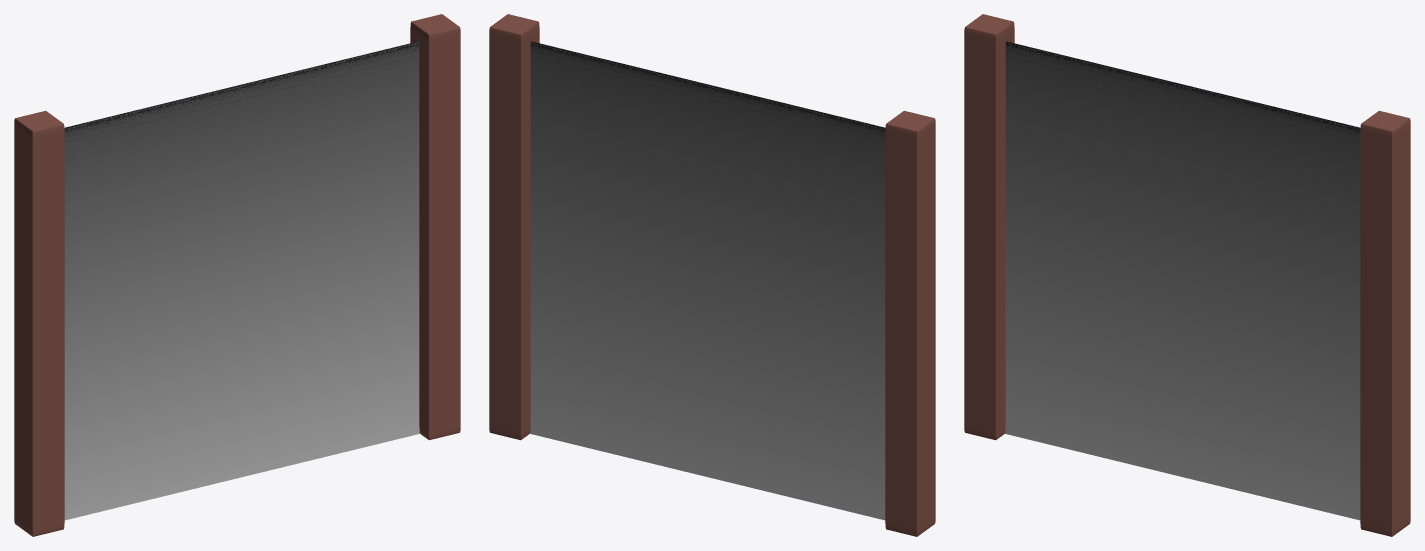
The model's file is Gate_001.fbx.
3 views of the same model, side by side, from view 1: azimuth 30°, elevation 25°; view 2: azimuth 150°, elevation 25°; view 3: azimuth 330°, elevation 25° (orthographic).
Visible parts, largest first — view 1: Plane, Cube, Cube.001; view 2: Plane, Cube, Cube.001; view 3: Plane, Cube.001, Cube.
Boxes of the visible parts, x1,y1,x2,y2 form: Plane: (64, 41, 419, 520); Cube: (14, 110, 64, 536); Cube.001: (410, 14, 460, 440); Plane: (530, 41, 885, 520); Cube: (885, 110, 935, 536); Cube.001: (489, 14, 539, 440); Plane: (1005, 41, 1360, 520); Cube.001: (1360, 110, 1410, 536); Cube: (964, 14, 1014, 440).
Size of the model in its own units: 228 by 207 by 17.18.
